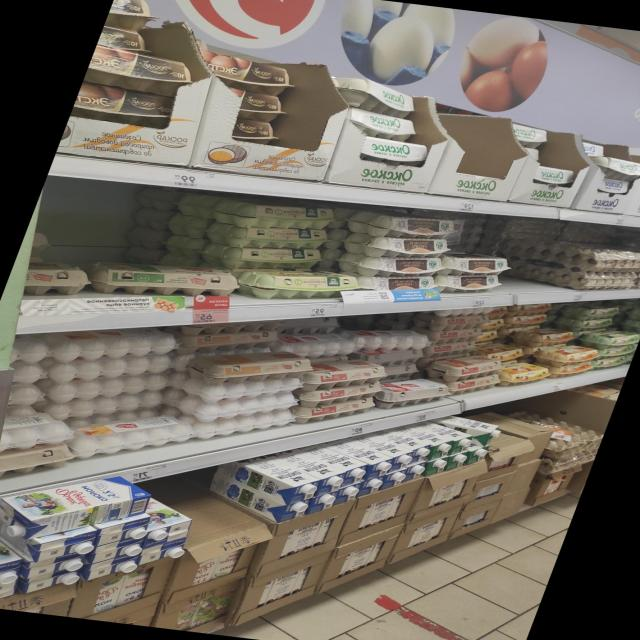organic waste: (84, 252, 246, 307), (82, 44, 201, 98), (190, 50, 303, 97), (322, 71, 426, 119), (70, 85, 183, 129), (342, 206, 461, 244), (330, 247, 446, 283), (335, 229, 453, 264), (339, 107, 424, 141), (355, 136, 436, 168), (438, 249, 516, 281), (429, 268, 506, 299), (226, 90, 294, 122), (104, 0, 159, 32), (228, 116, 283, 144), (96, 26, 150, 54), (526, 162, 582, 188), (595, 156, 640, 182), (598, 178, 633, 195)
